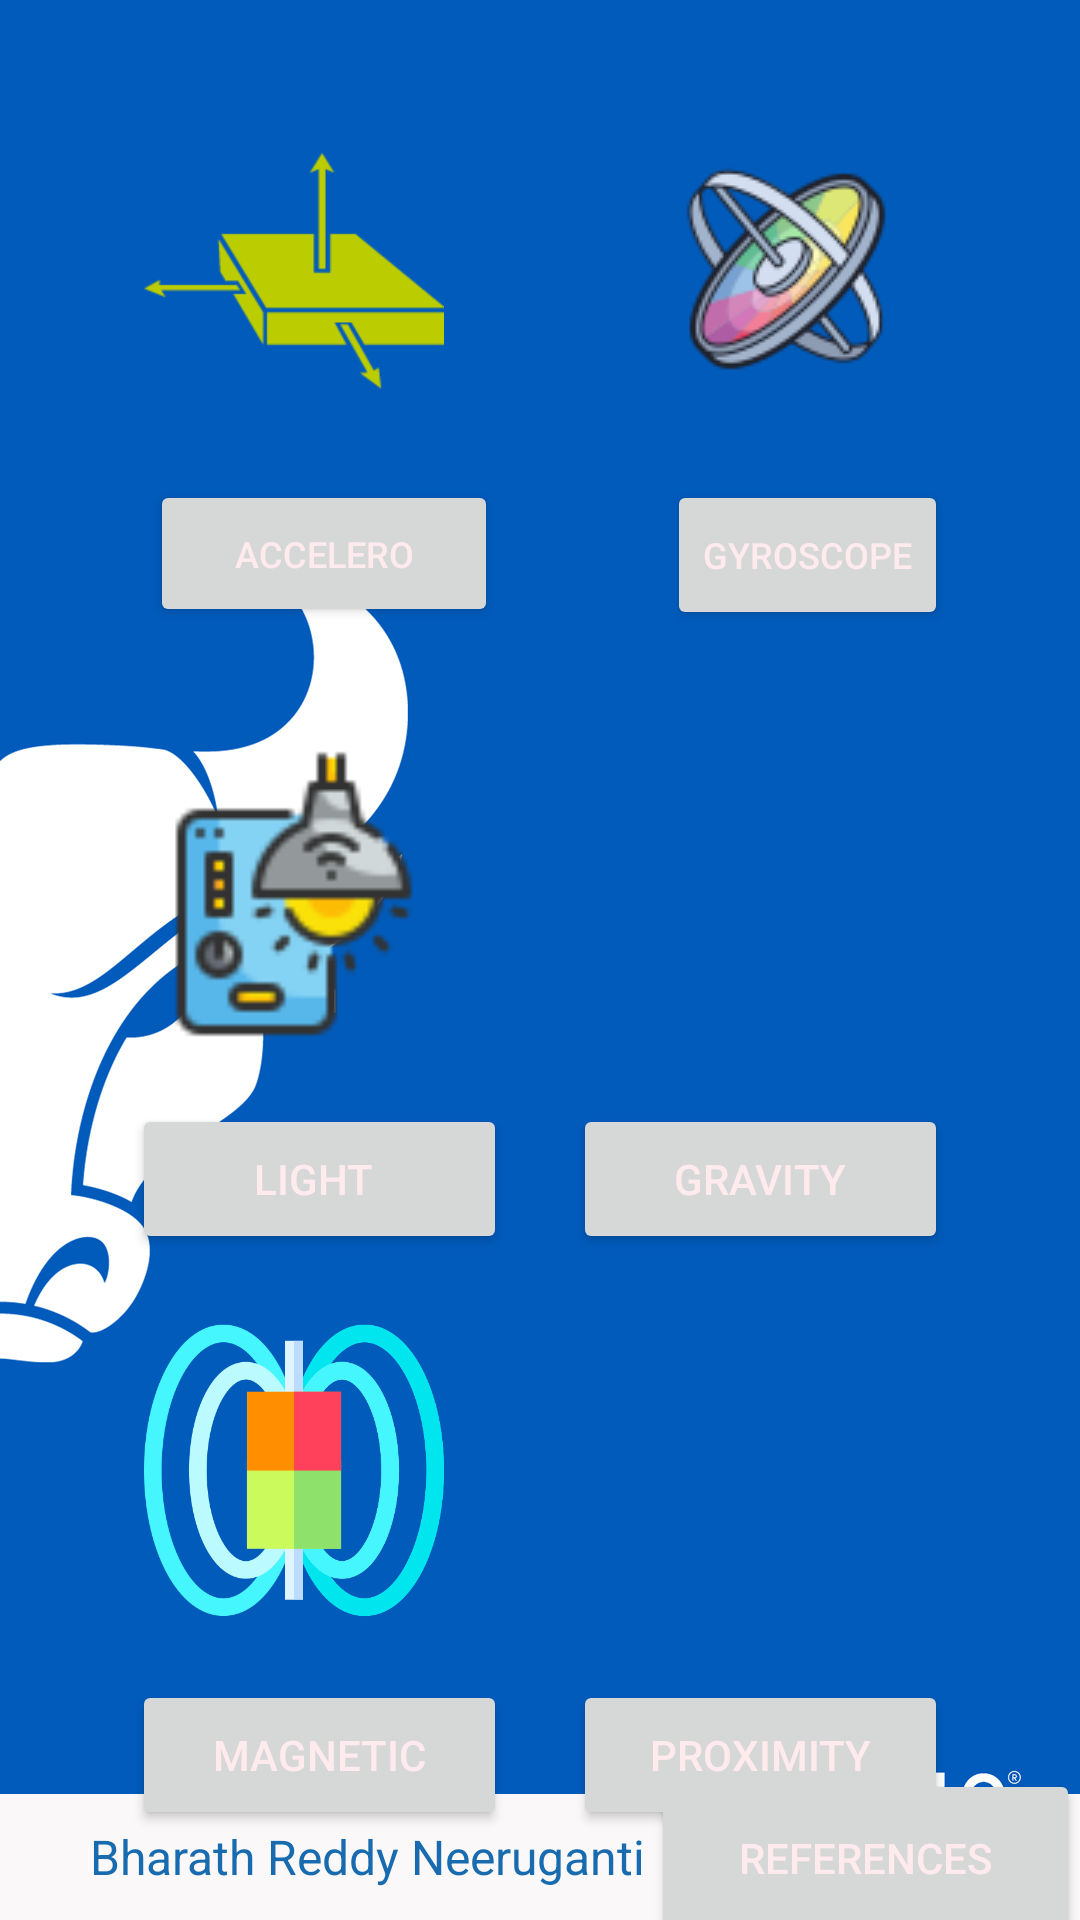

Icons on this 1080w x 1920h Android screen, each with its box as (x1, y1, x2, y2):
motion: (687, 169, 886, 370)
